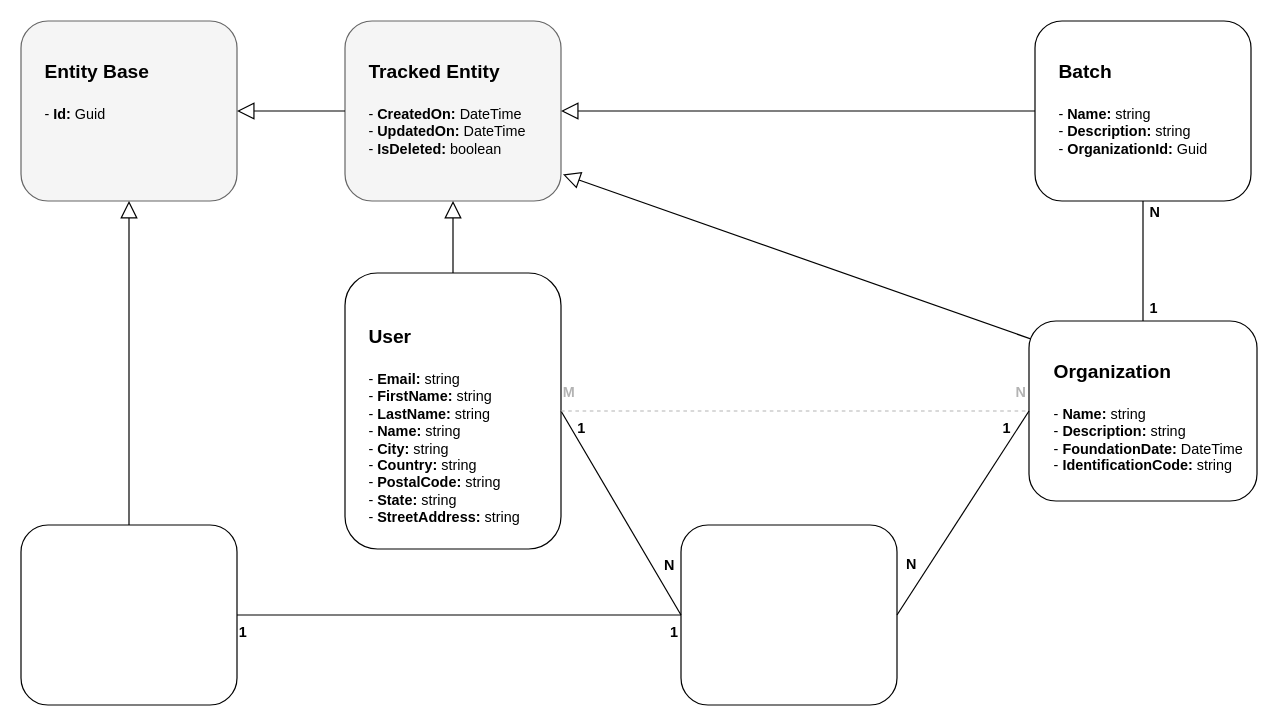
The diagram is 1278 pixels wide and 726 high, and some of its shapes have lost their labels. The shapes that lost their labels are listed below. From the top down, each one's centre as x and y in pixels, then its label:
At (x=128, y=614): "Role - Name: string - Description: string".
At (x=788, y=614): "OrganizationUser - UserId: Guid - OrganizationId: Guid - RoleId: Guid".
